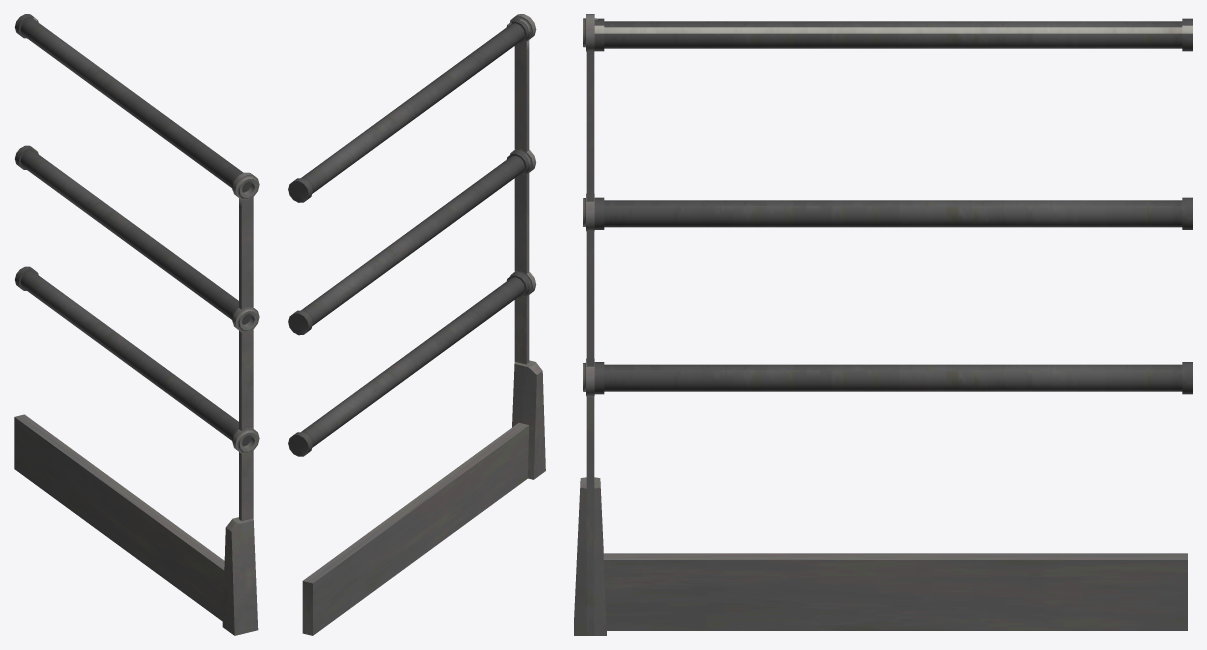
The model's file is Railing_p1.fbx.
3 renders of one model, left to right at view 1: azimuth 30°, elevation 25°; view 2: azimuth 150°, elevation 25°; view 3: azimuth 270°, elevation 25°, orthographic. The views are drawn at different scales.
Parts seen in each view (by area): view 1: Railing_p1; view 2: Railing_p1; view 3: Railing_p1.
Boxes of the visible parts, x1=… form: Railing_p1: x1=14, y1=14, x2=259, y2=635; Railing_p1: x1=288, y1=14, x2=545, y2=635; Railing_p1: x1=574, y1=14, x2=1192, y2=635.
Bounding box in the file's own units: 0.1494 × 2.21 × 2.01.
